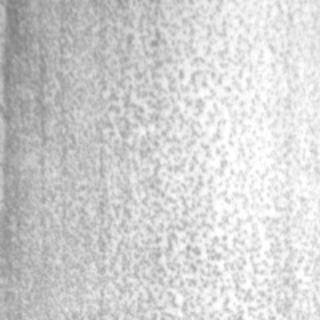pitted_surface: (100, 0, 316, 318)
